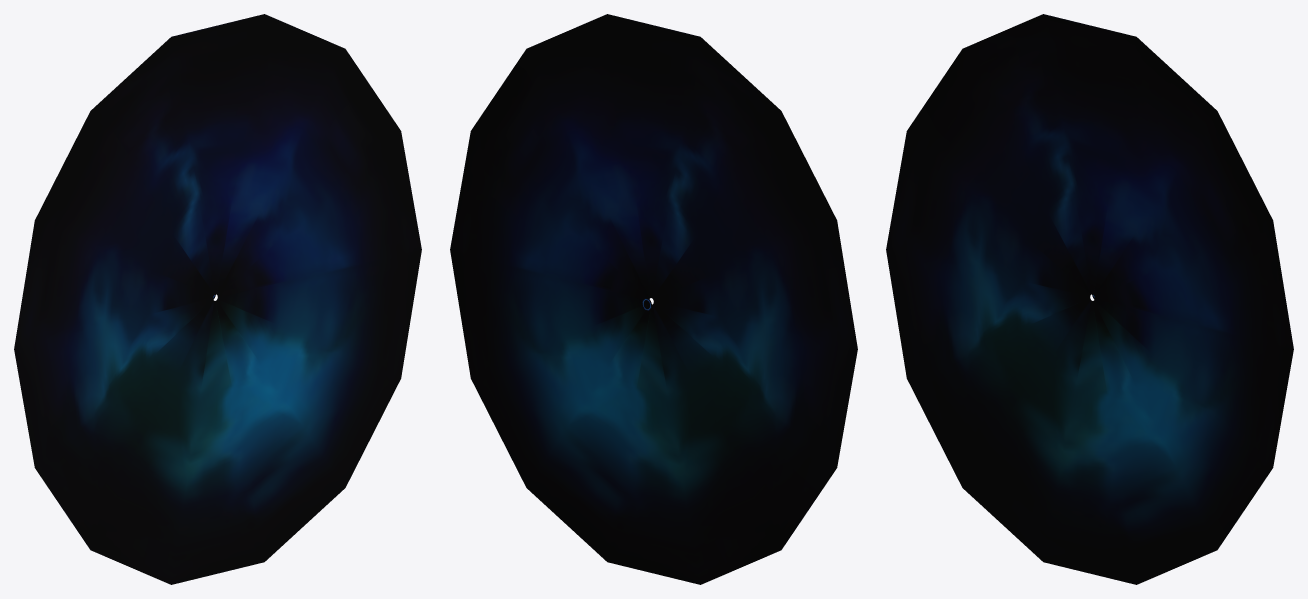
The model's file is chuansong2_start_3.FBX.
The picture shows the model from 3 angles, left to right: view 1: azimuth 30°, elevation 25°; view 2: azimuth 150°, elevation 25°; view 3: azimuth 330°, elevation 25°; orthographic projection.
Parts seen in each view (by area): view 1: 3_002; view 2: 3_002; view 3: 3_002.
Part boxes in pixels (x1,y1,x2,y2): 3_002: [14, 14, 421, 584]; 3_002: [450, 14, 857, 584]; 3_002: [886, 14, 1293, 584].
Bounding box in the file's own units: 3.24 × 4.16 × 0.0975.
Materials: 1 (1 with a texture image).
